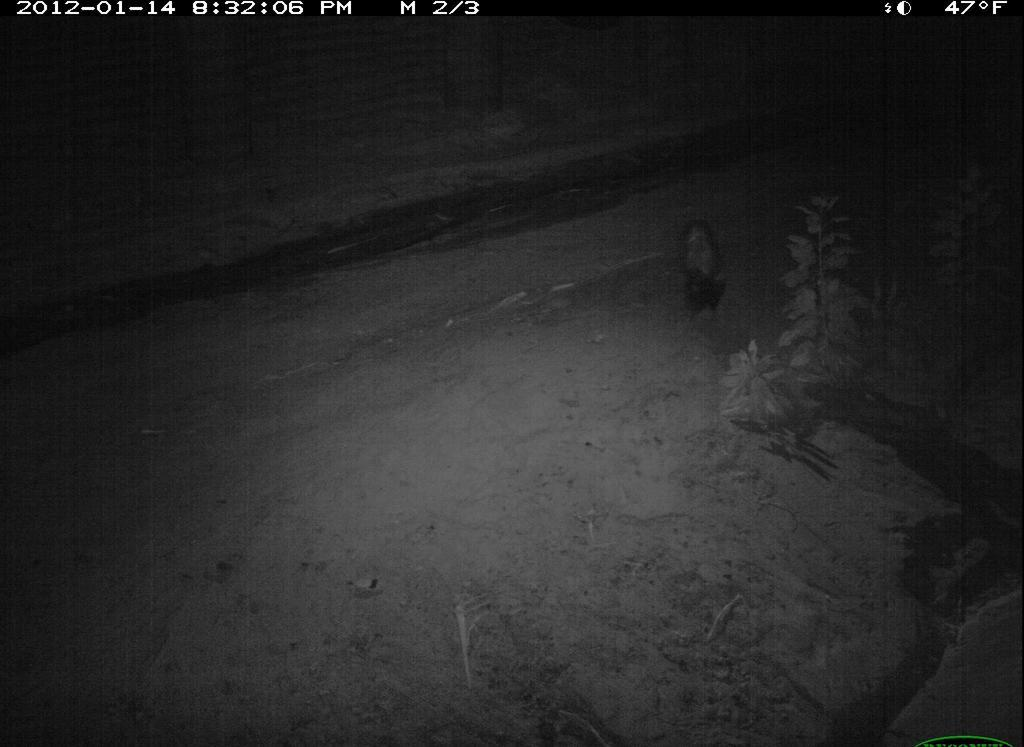skunk: (671, 204, 738, 328)
